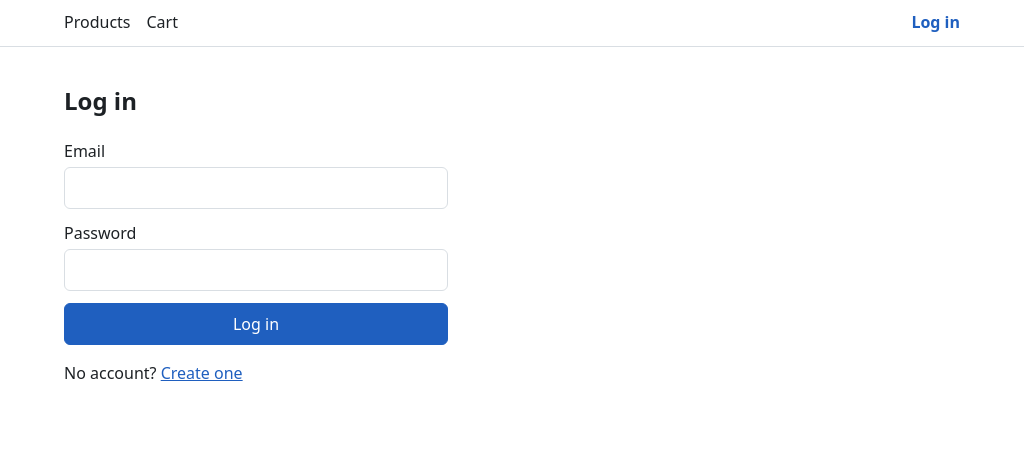
Test: logging in › explains a rate limit with the wait time
This screenshot has width=1024, height=466.
Type "ada@example.com" into the field labelled "Email" at (256, 188), box x1=64 y1=167 x2=448 y2=209
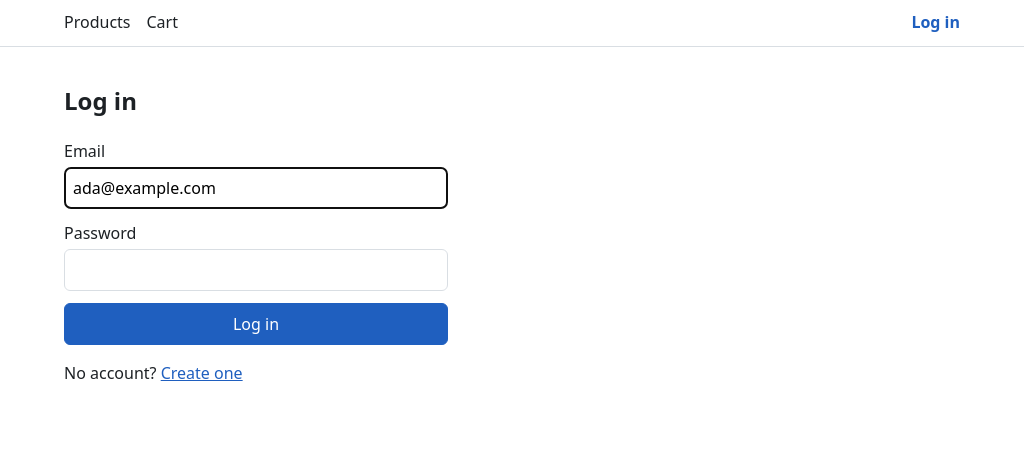
Type "guess" into the password field labelled "Password" at (256, 270), box x1=64 y1=249 x2=448 y2=291
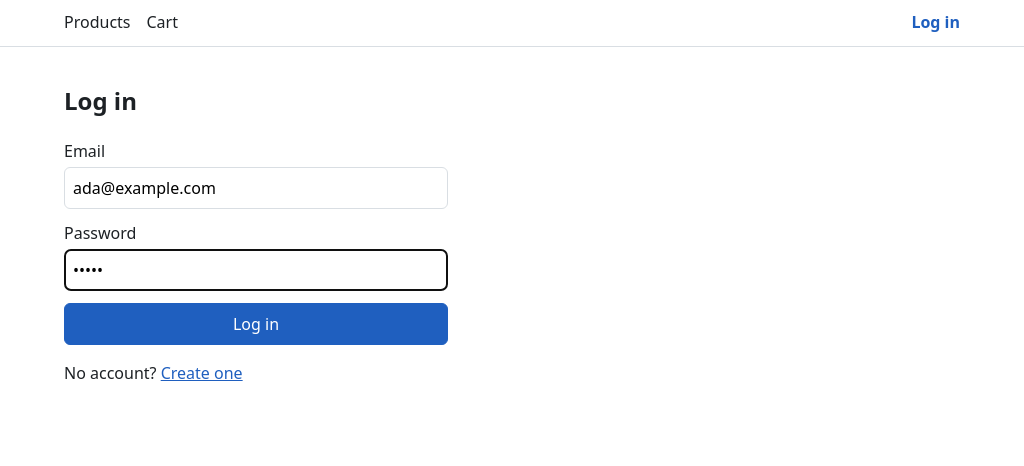
Click the button "Log in" at (256, 324), box x1=64 y1=303 x2=448 y2=345
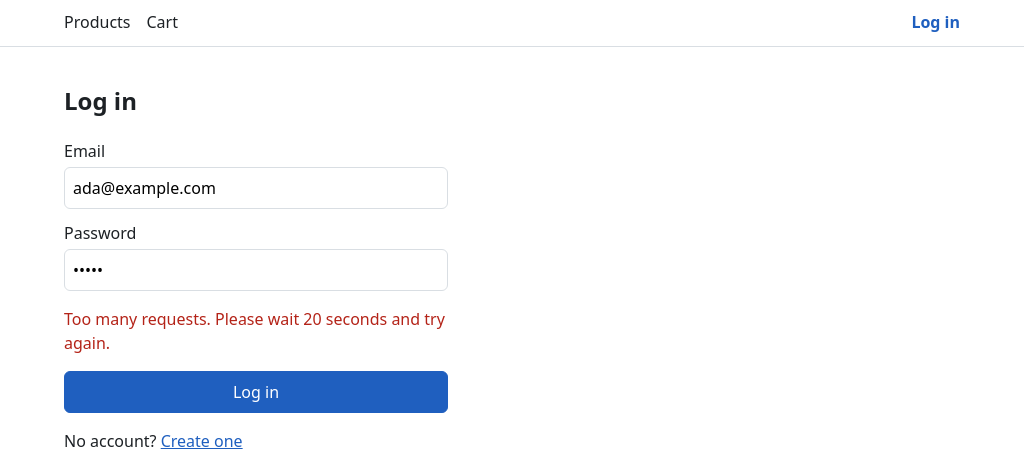
Check: the message shows "Please wait 20 seconds", box x1=64 y1=308 x2=445 y2=354
